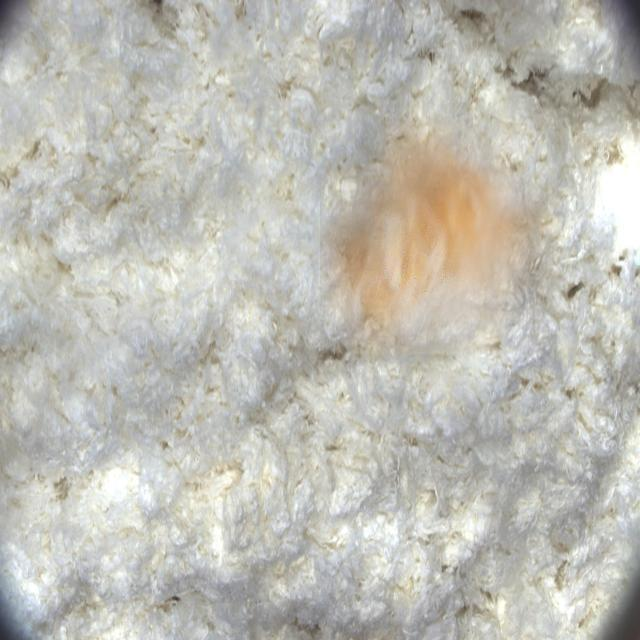dust: (320, 93, 561, 354)
